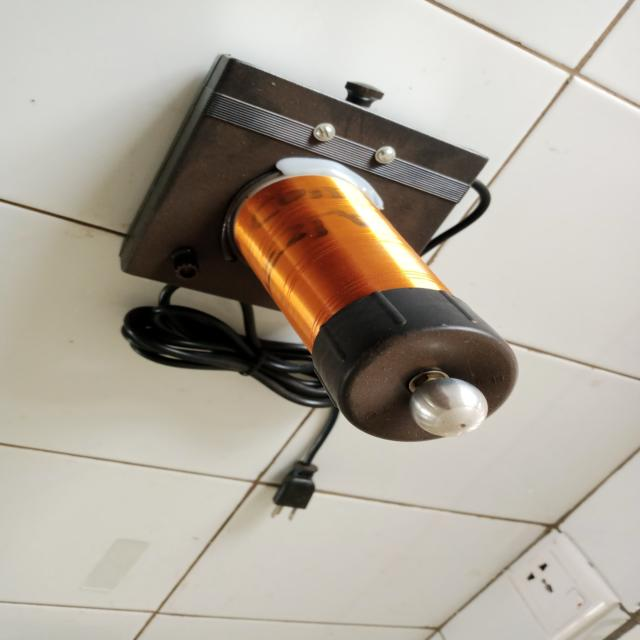Tesla Coil: (95, 58, 534, 448)
